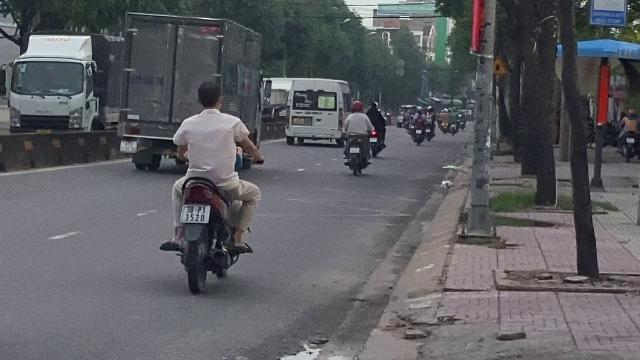licenseplate: (180, 204, 208, 224)
motorcyclist: (158, 78, 262, 290)
nohelmet: (195, 79, 223, 111)
